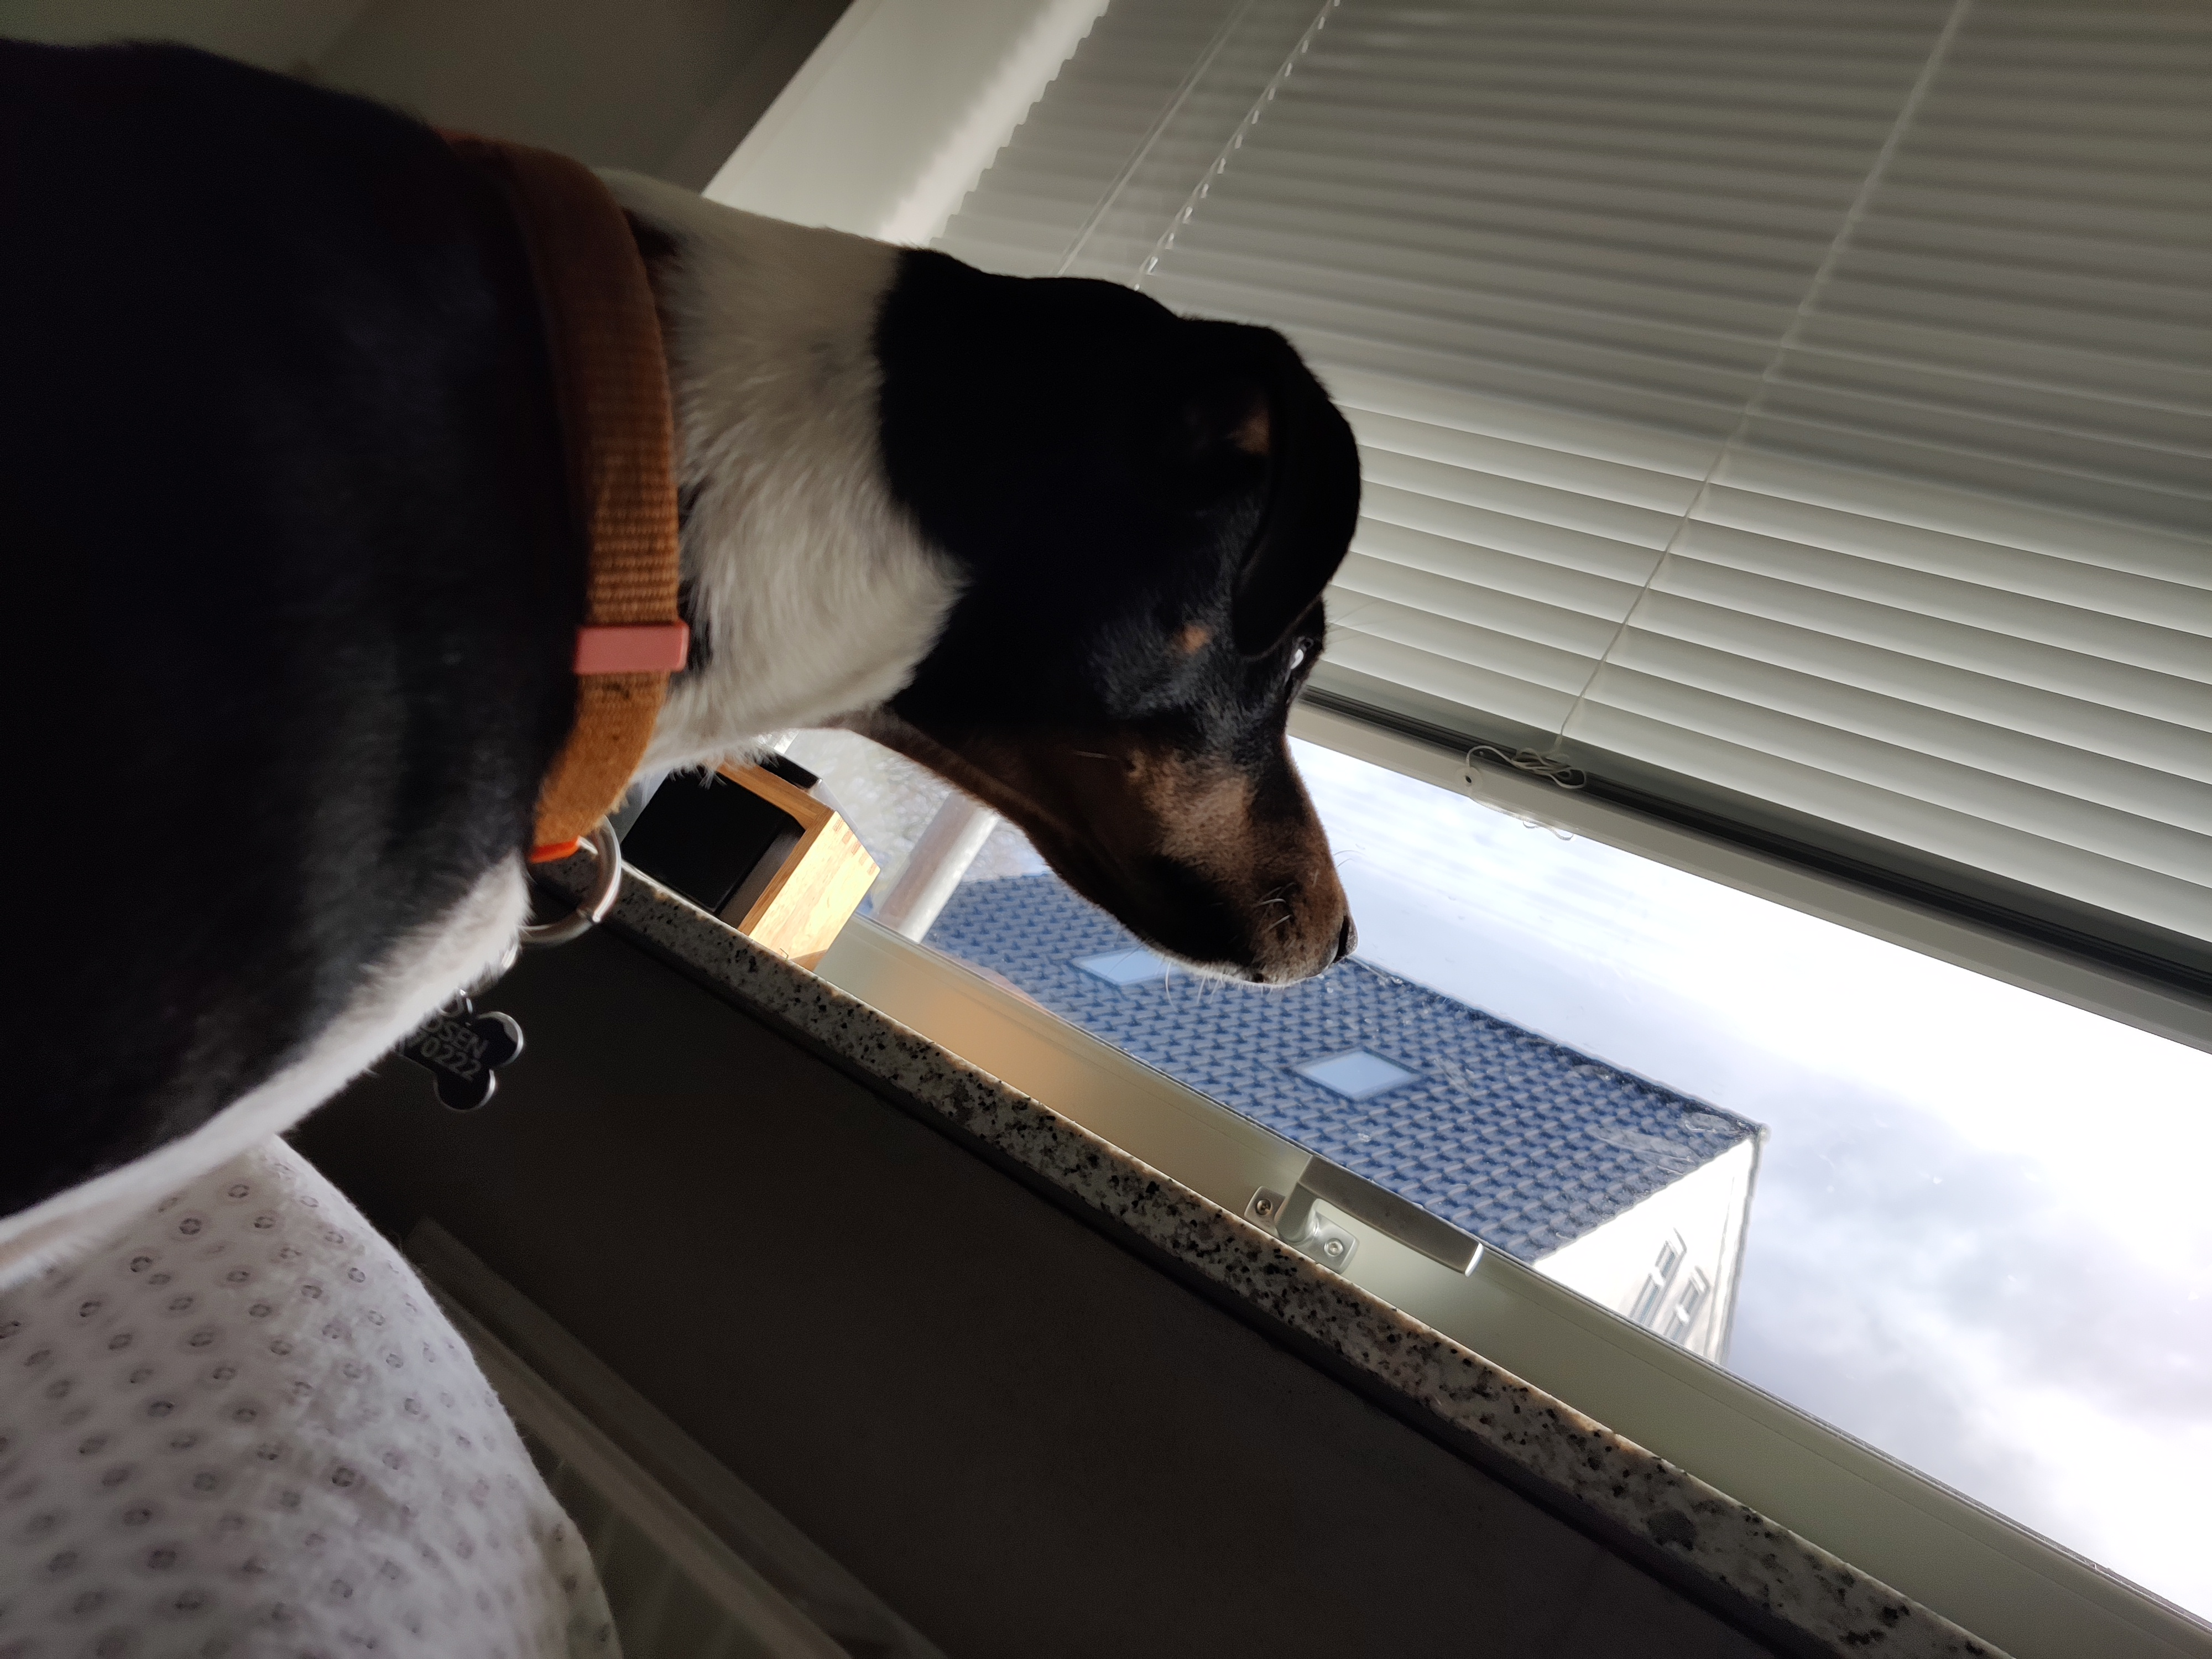Dog: (0, 19, 1378, 1314)
